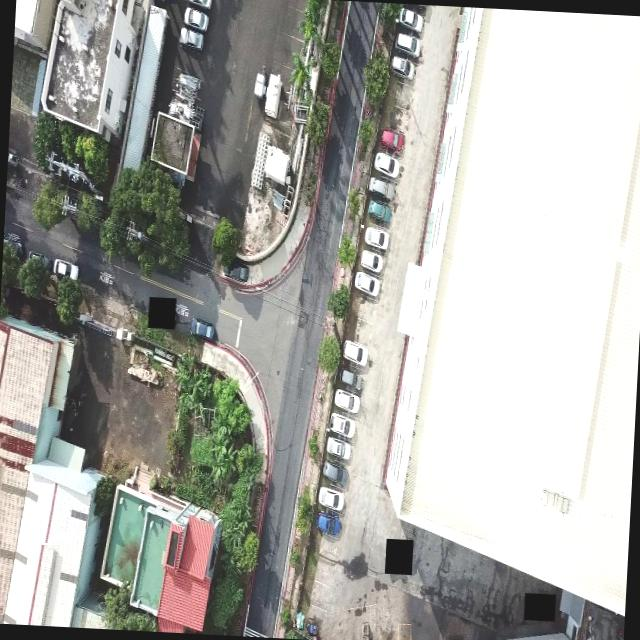car: (350, 269, 382, 301), (367, 175, 401, 204), (373, 150, 404, 180), (394, 31, 424, 62), (321, 459, 353, 488), (318, 486, 349, 514), (328, 412, 358, 440), (325, 435, 355, 462), (388, 55, 416, 83), (397, 6, 425, 34), (342, 340, 370, 367), (365, 225, 393, 252), (366, 200, 394, 227), (332, 388, 362, 413), (182, 5, 210, 31), (380, 127, 406, 155), (316, 512, 343, 538), (190, 318, 219, 342), (221, 258, 250, 282), (54, 258, 80, 284), (358, 249, 384, 275), (179, 26, 207, 50), (338, 369, 361, 393), (27, 251, 51, 271), (184, 0, 213, 8)
